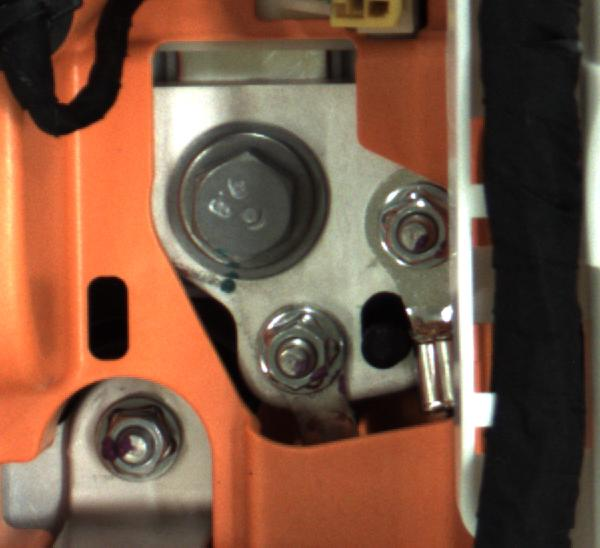nut_b: (173, 118, 315, 277)
screw_s: (247, 300, 366, 406), (369, 186, 468, 280), (94, 391, 195, 480)
